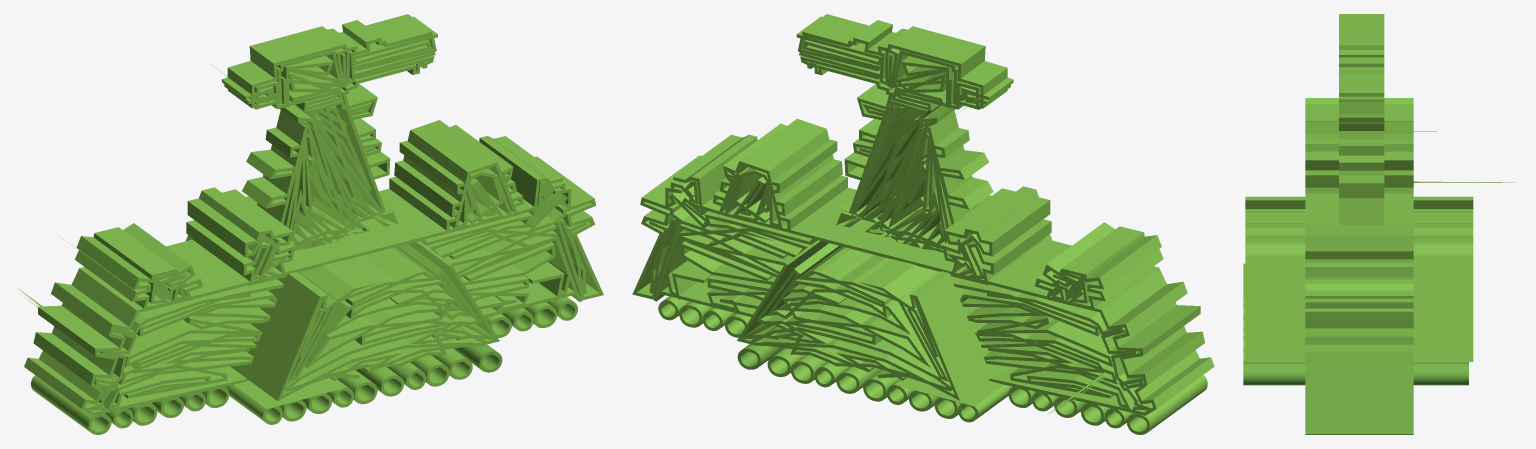
3 views of the same model, side by side, from view 1: azimuth 30°, elevation 25°; view 2: azimuth 150°, elevation 25°; view 3: azimuth 270°, elevation 25° (orthographic). The views are drawn at different scales.
Visible parts, largest first — view 1: 7; view 2: 7; view 3: 7.
Part boxes in pixels (left/top/right/bottom): 7: left=18, top=14, right=603, bottom=434; 7: left=632, top=14, right=1214, bottom=434; 7: left=1243, top=14, right=1514, bottom=434.
Size of the model in its own units: 3.86 by 2.22 by 1.9.
